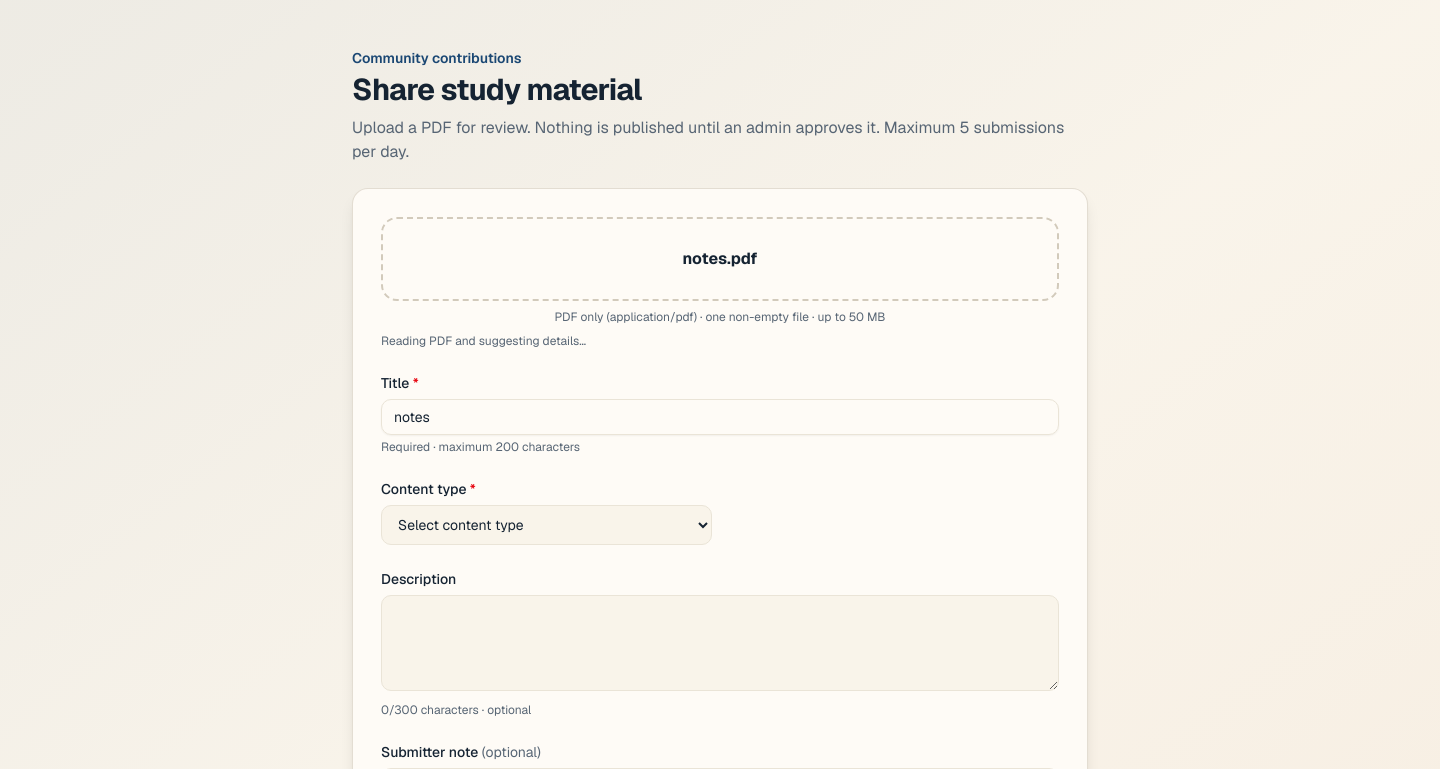
public PDF submission metadata › retries only finalization after a retryable saving failure
The image size is (1440, 769).
Earlier steps of the test are not shown.
Select "Exams" in the dropdown labelled "Content type *": (546, 525) top-left (381, 505), bottom-right (712, 545)
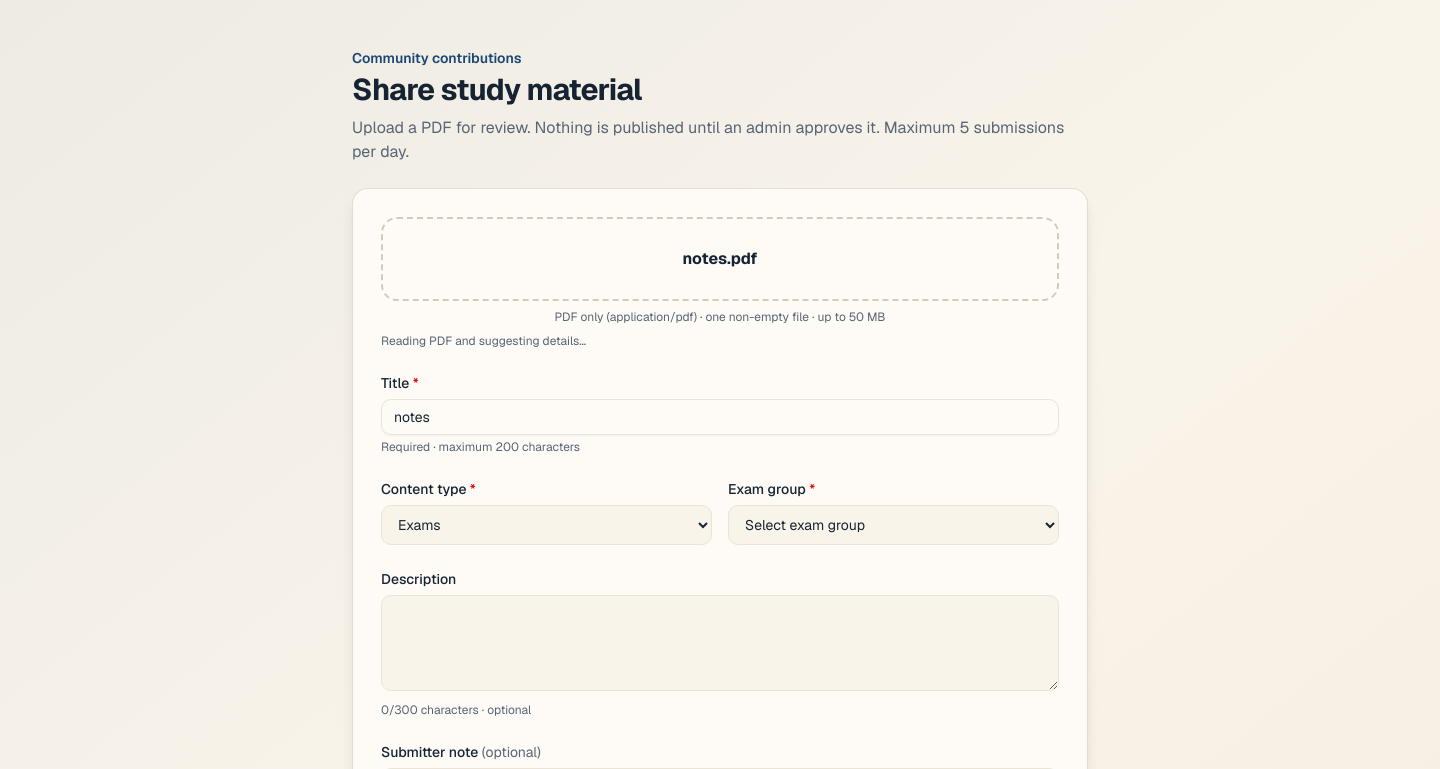
Select "SSC" in the dropdown labelled "Exam group *": (894, 525) top-left (728, 505), bottom-right (1059, 545)
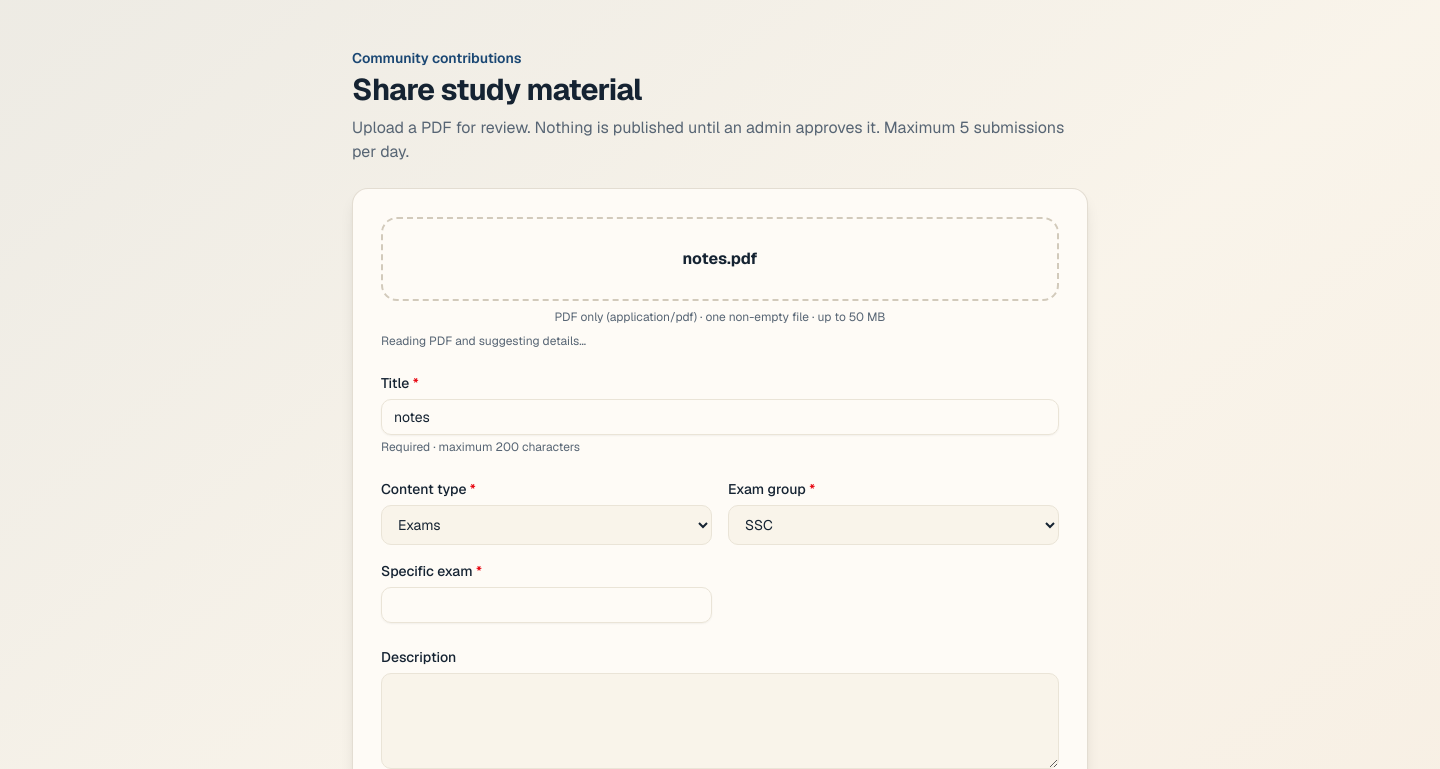
In the field labelled "Specific exam *": (546, 605) top-left (381, 587), bottom-right (712, 623), type "SSC CGL"
(page scrolled)
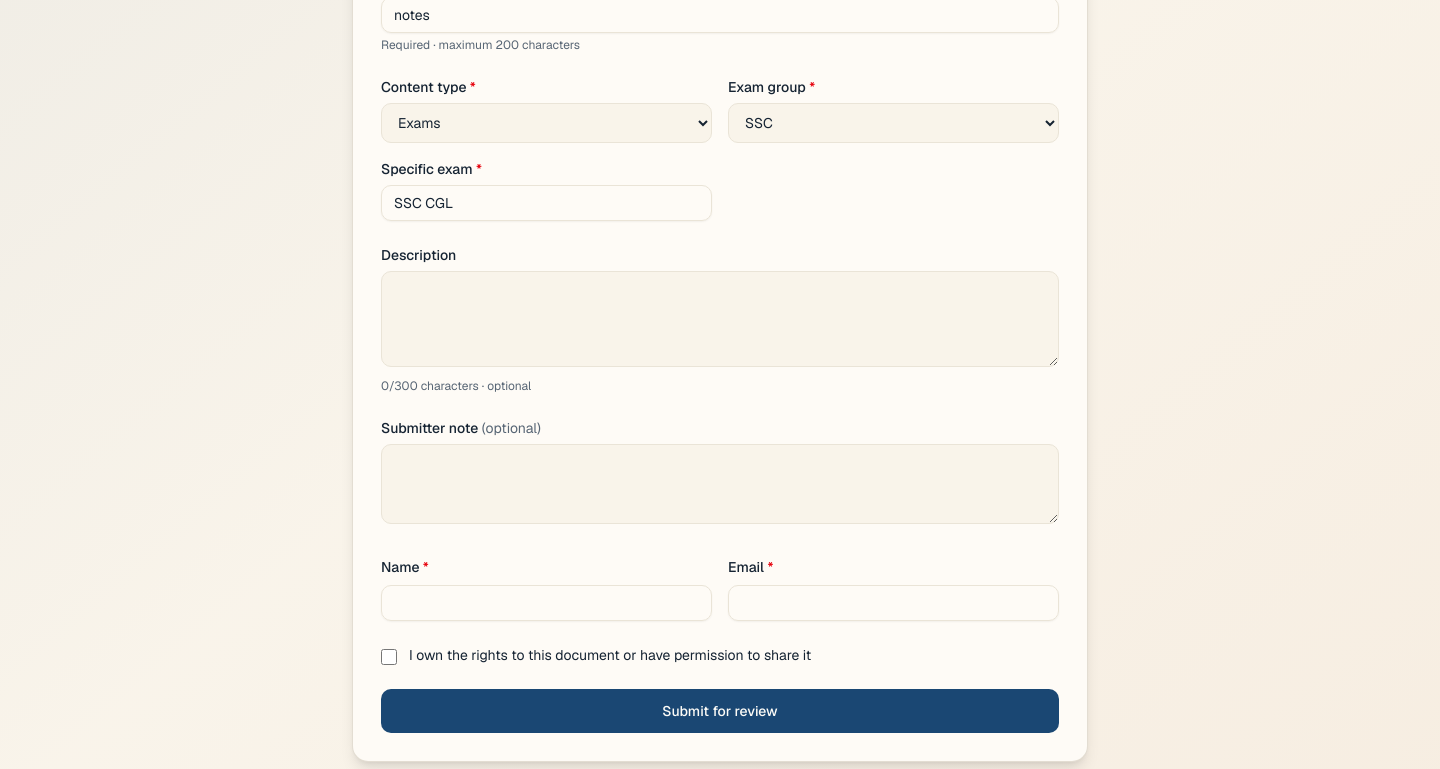
In the field labelled "Name *": (546, 603) top-left (381, 585), bottom-right (712, 621), type "Contributor"
In the field labelled "Email *": (894, 603) top-left (728, 585), bottom-right (1059, 621), type "contributor@example.test"
Click the checkbox labelled "I own the rights": (389, 657) top-left (381, 649), bottom-right (397, 665)
(page scrolled)
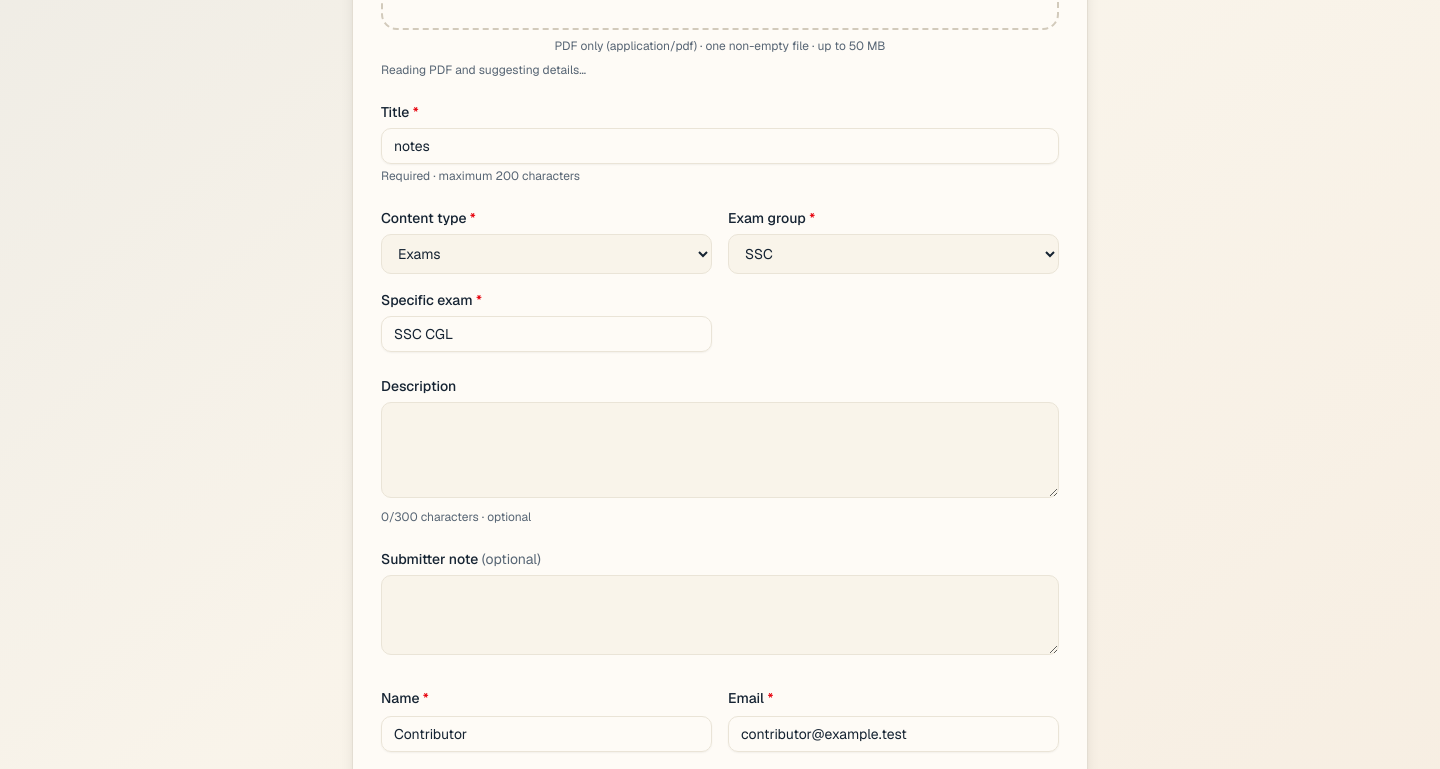
Submit the form named "Submit for review"
(page scrolled)
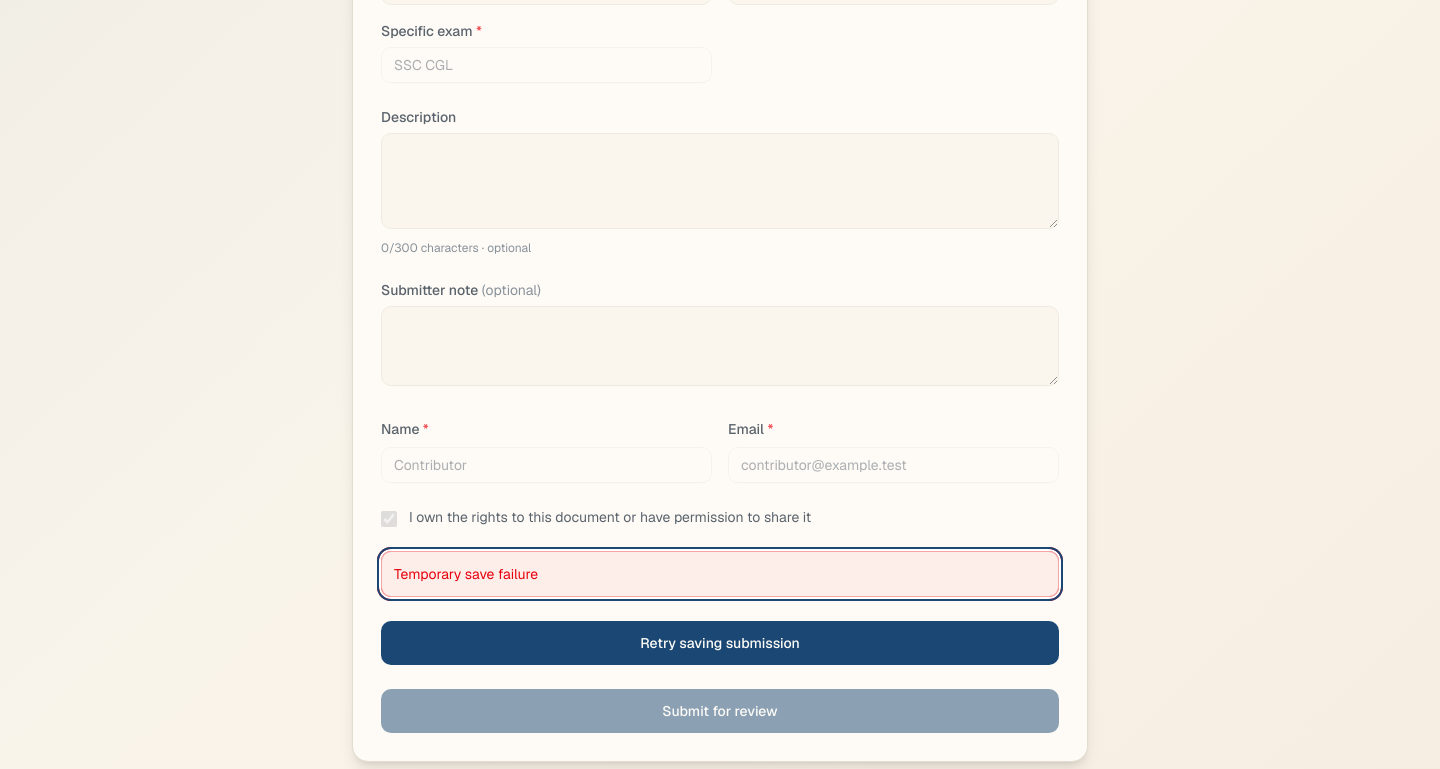
Click the button "Retry saving submission": (720, 643) top-left (381, 621), bottom-right (1059, 665)
(page scrolled)
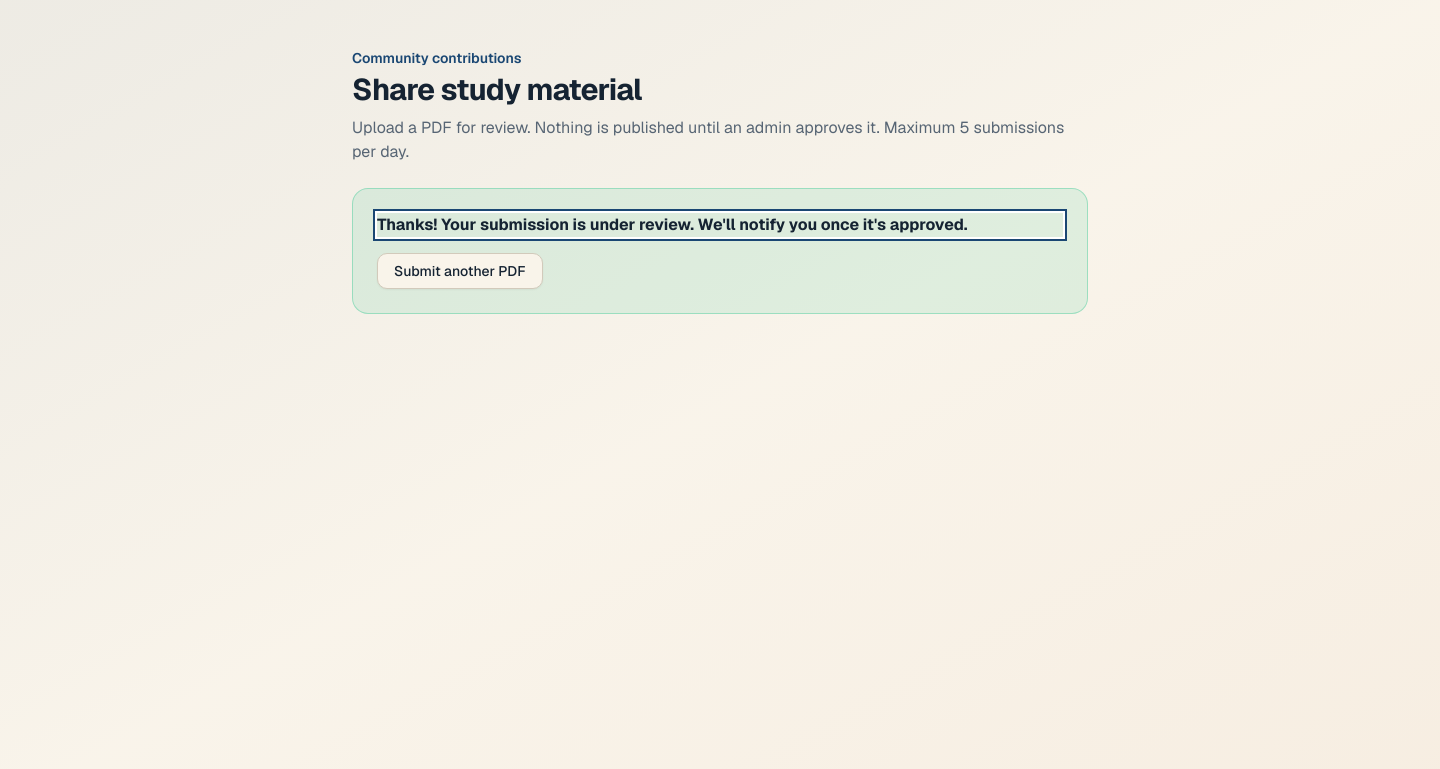
Expected: the heading "Thanks! Your submission is under review" is shown, top-left (377, 214), bottom-right (968, 235)
